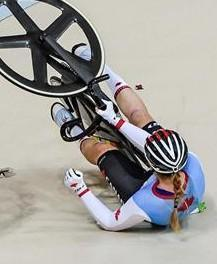Fall-Detected: (47, 43, 213, 244)
